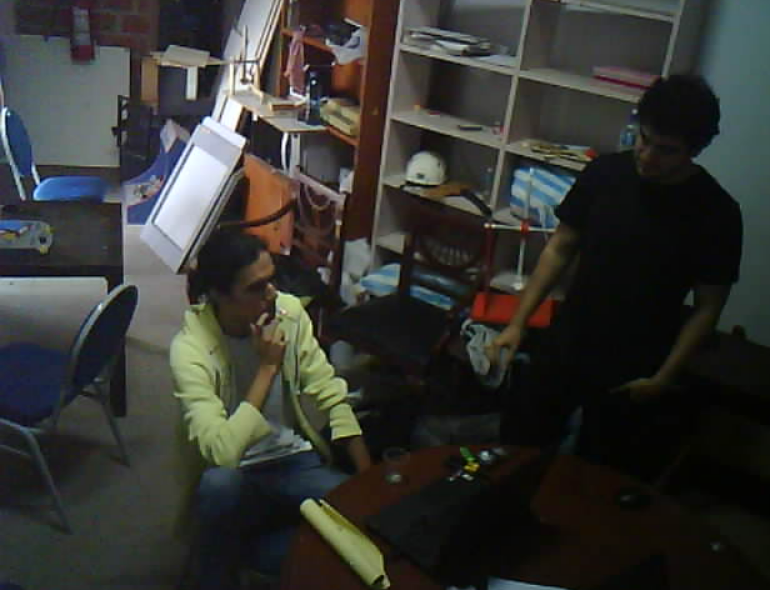person: (485, 29, 753, 503), (114, 192, 403, 590)
